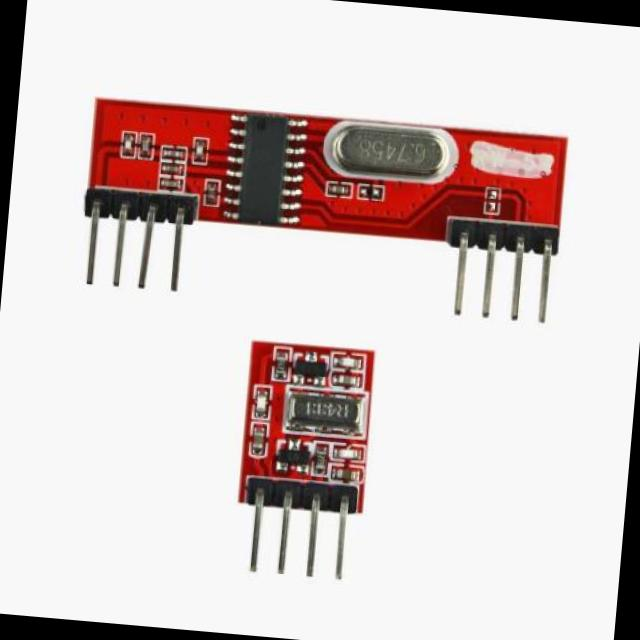IC: (230, 110, 308, 228)
capacitor: (332, 352, 365, 370), (330, 372, 363, 388), (334, 467, 363, 484), (337, 448, 368, 463), (250, 425, 266, 454), (252, 390, 268, 416), (327, 184, 352, 198), (162, 147, 185, 159), (140, 137, 150, 158), (163, 165, 182, 176), (162, 178, 182, 188), (206, 184, 217, 202), (122, 136, 134, 152), (194, 145, 203, 162)
connector: (431, 214, 572, 336), (236, 474, 360, 590), (70, 186, 198, 292)
resistor: (312, 444, 326, 473), (276, 354, 288, 376), (362, 186, 382, 198)
transistor: (272, 438, 309, 474), (292, 356, 328, 384)
